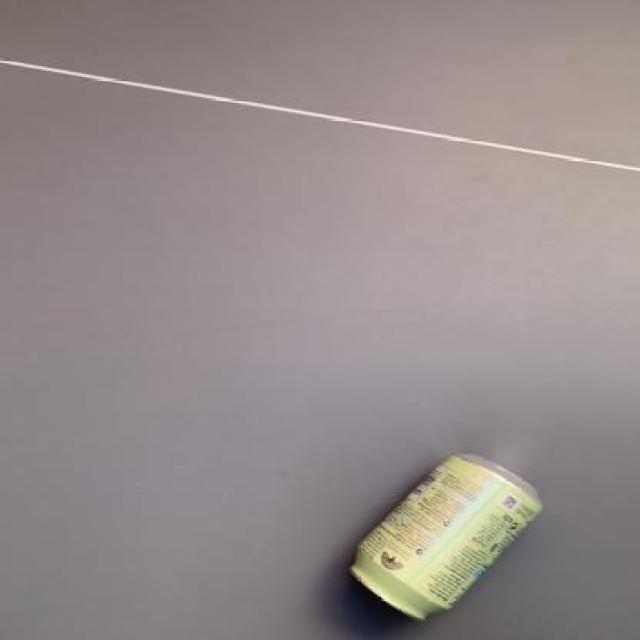trash: (346, 451, 542, 624)
